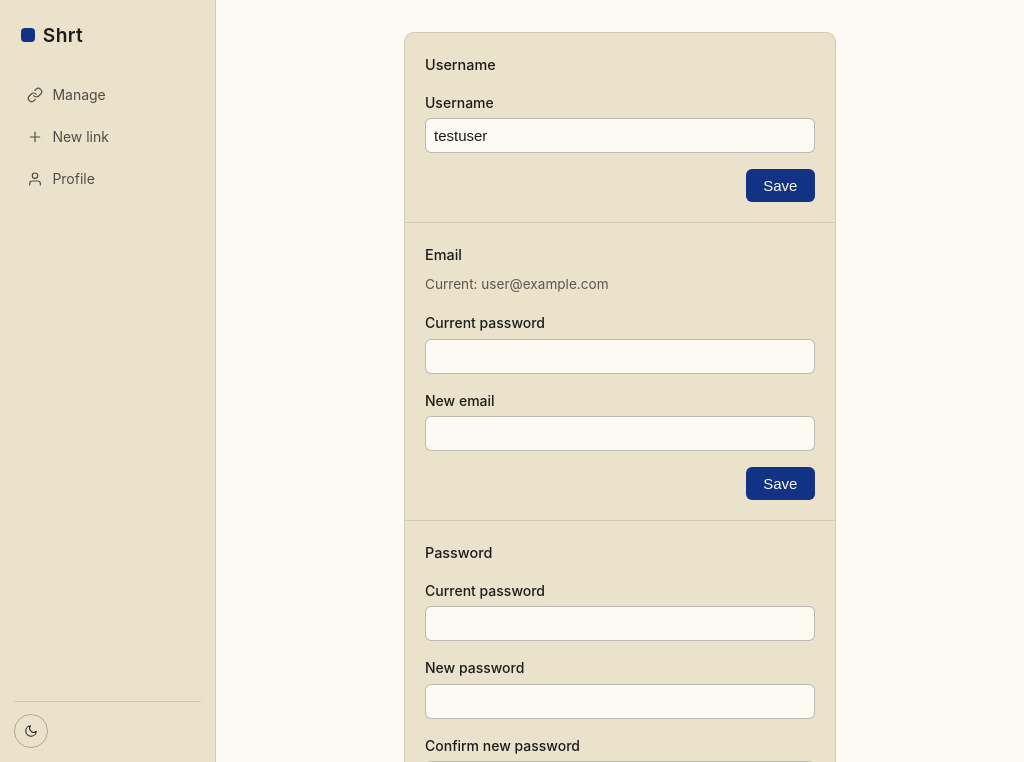
ProfileView username section › shows success message on successful save
Replace the text in the field labelled "Username" with "newname" at (620,136), box [425,118,815,153]
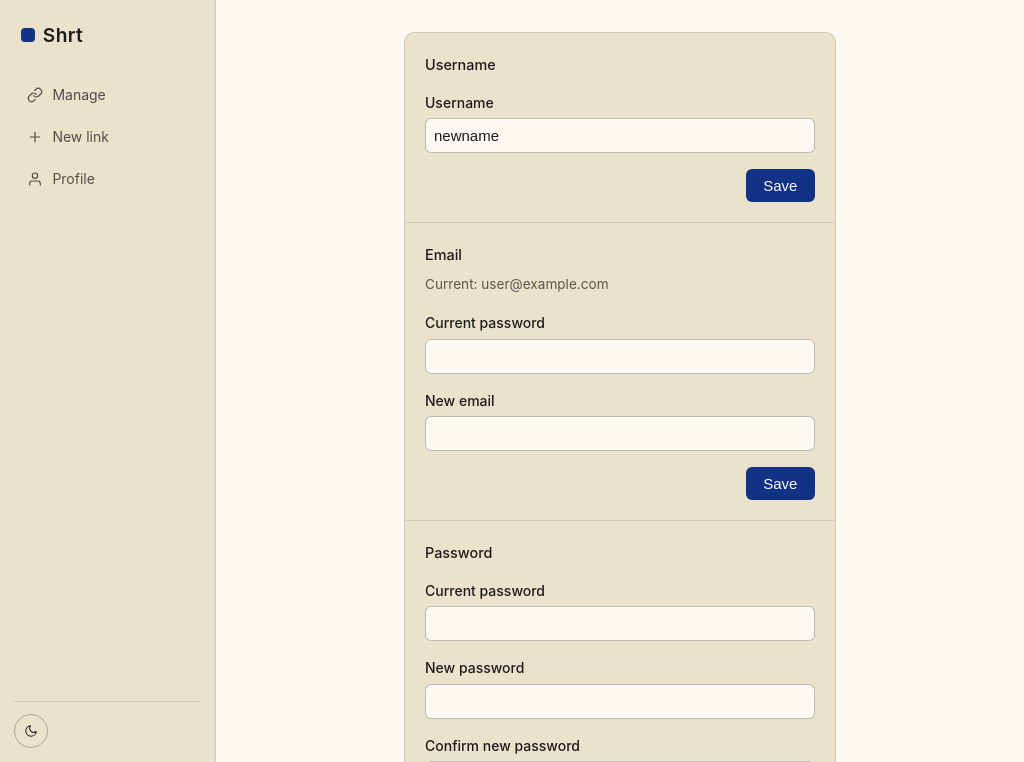
Submit the form "Username Save", box [425,92,815,202]
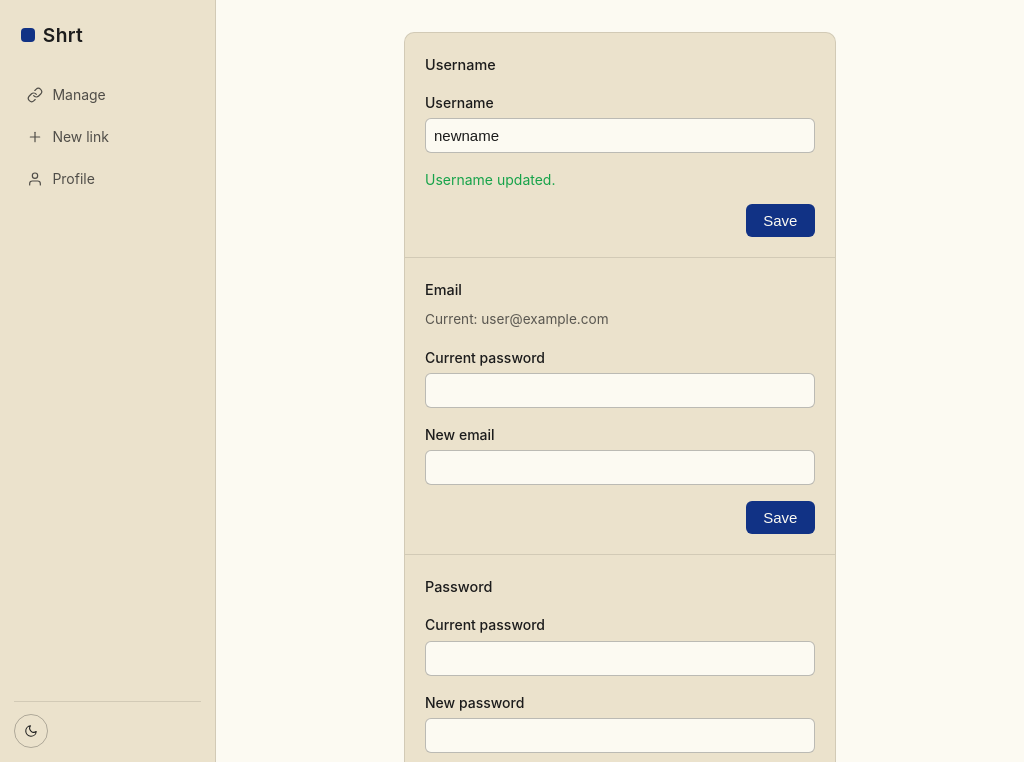
Check: the text "Username updated." is shown, box [425,171,556,188]
